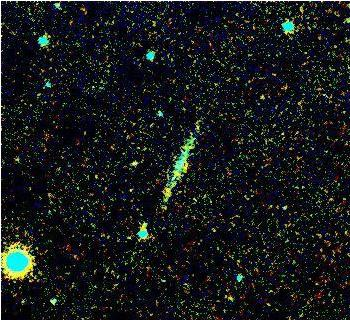star: (150, 173, 180, 203)
